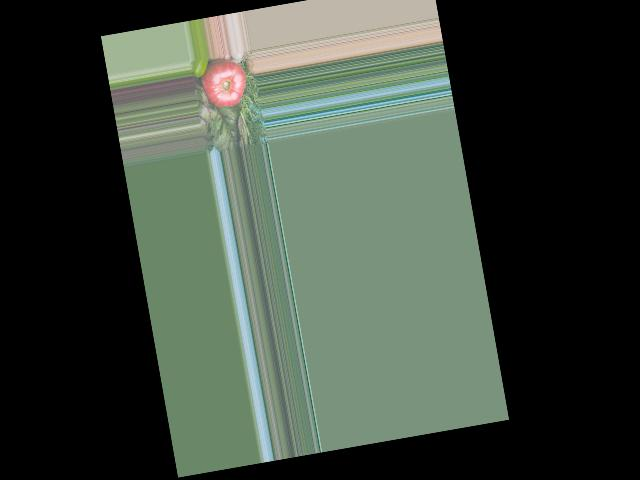tomato: (197, 55, 250, 110)
